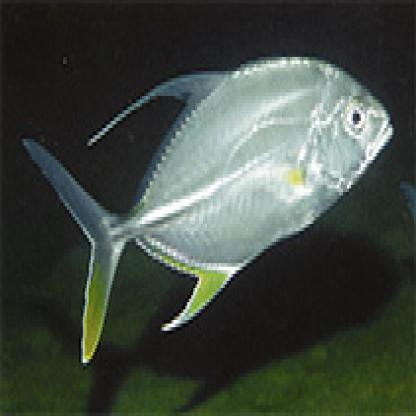jack: (17, 40, 391, 360)
